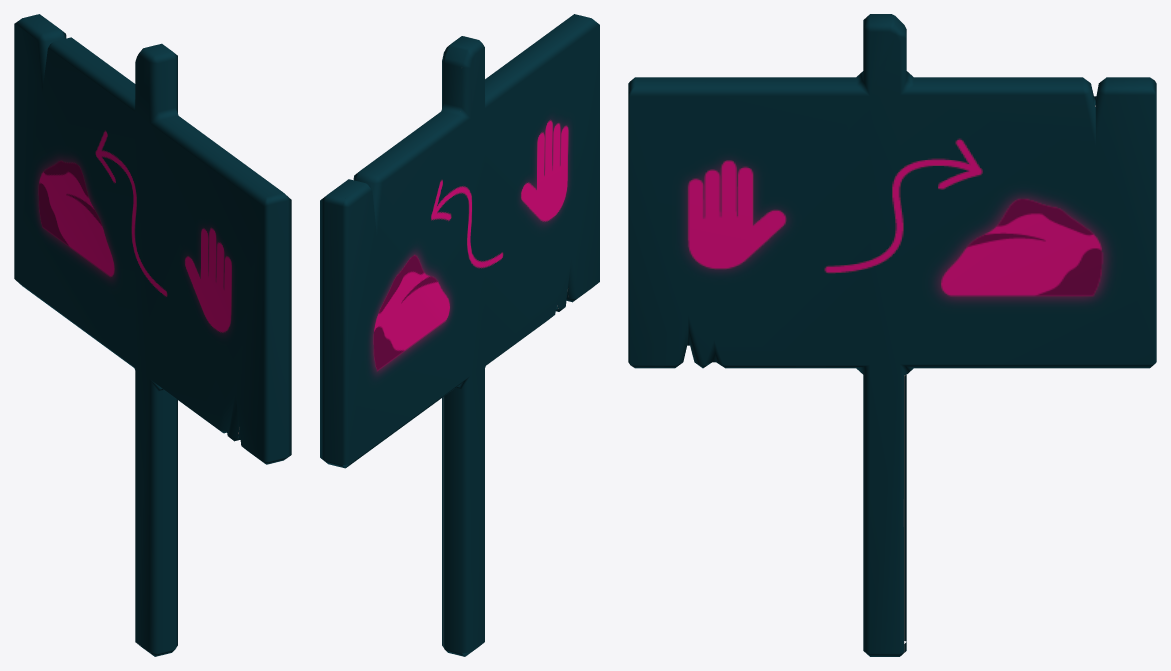
The model's file is S_Hand.fbx.
3 renders of one model, left to right at view 1: azimuth 30°, elevation 25°; view 2: azimuth 150°, elevation 25°; view 3: azimuth 270°, elevation 25°, orthographic. The views are drawn at different scales.
Visible parts, largest first — view 1: Hand; view 2: Hand; view 3: Hand.
Boxes of the visible parts, box(x1,y1,x2,y2) form: Hand: box(14, 14, 291, 656); Hand: box(320, 14, 599, 656); Hand: box(628, 14, 1156, 656).
Size of the model in its own units: 4.72 by 94.89 by 71.66.
